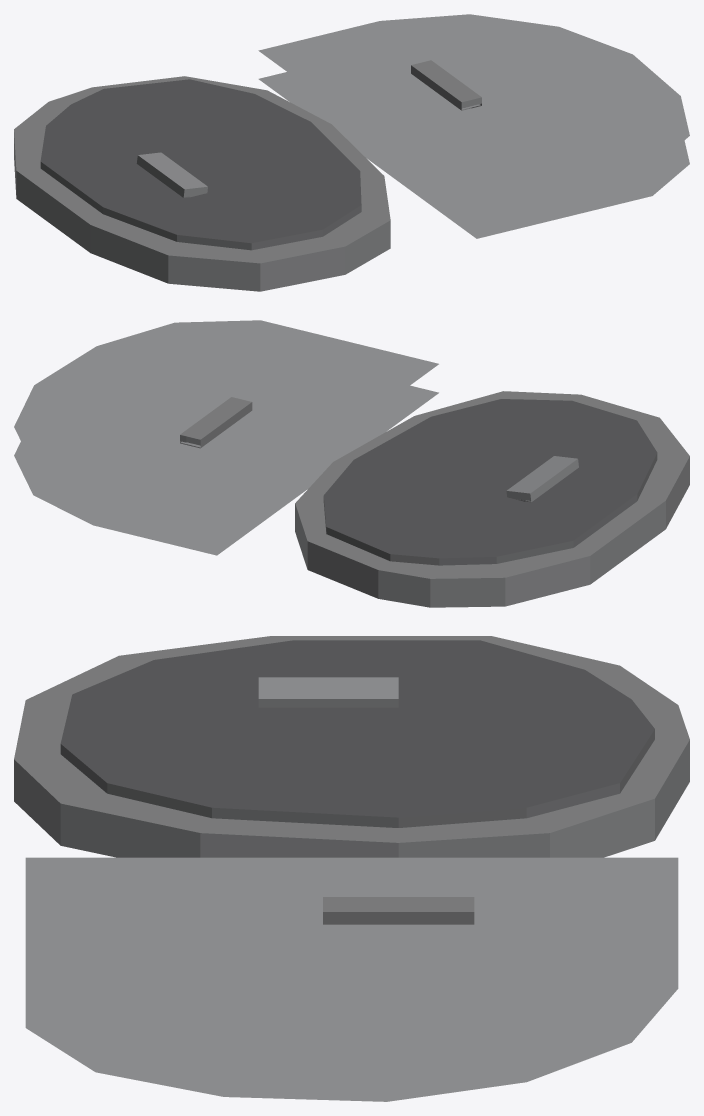
3 renders of one model, top to bottom at view 1: azimuth 30°, elevation 25°; view 2: azimuth 150°, elevation 25°; view 3: azimuth 270°, elevation 25°, orthographic. The views are drawn at different scales.
Size of the model in its own units: 0.7912 by 0.058 by 0.5336.
